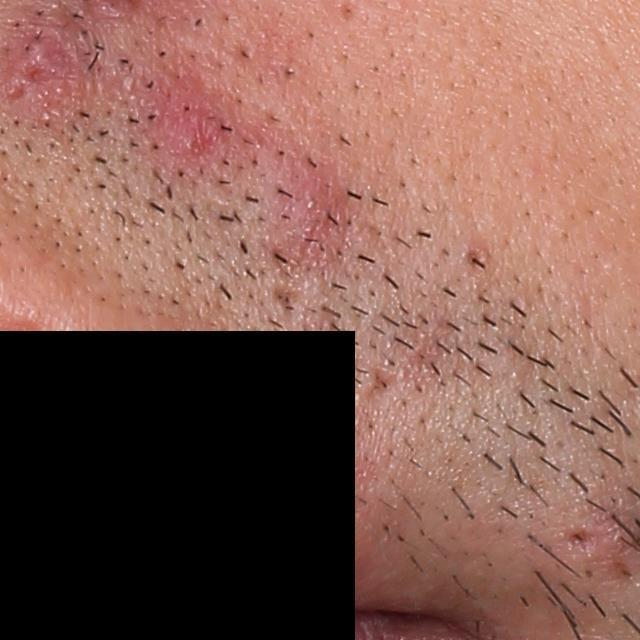atrophic_scar: (267, 282, 313, 338), (355, 357, 396, 406)
papule: (170, 87, 244, 173), (294, 170, 339, 237), (19, 25, 65, 86)
